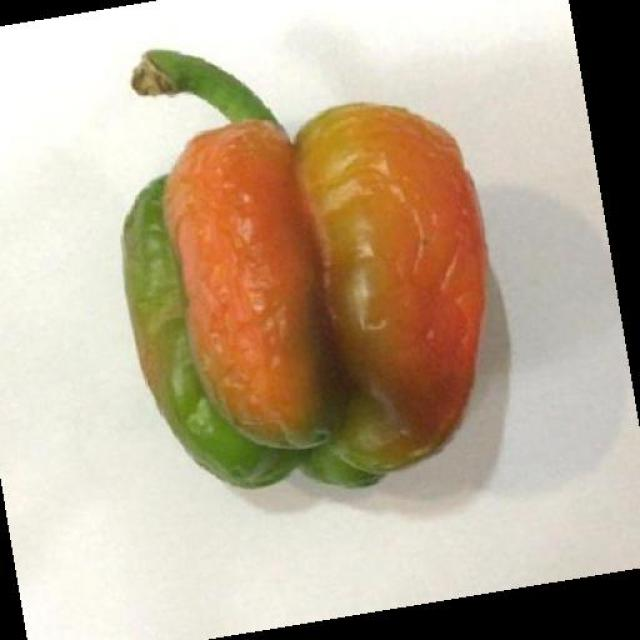Stale_Capsicum: (104, 86, 480, 466)
